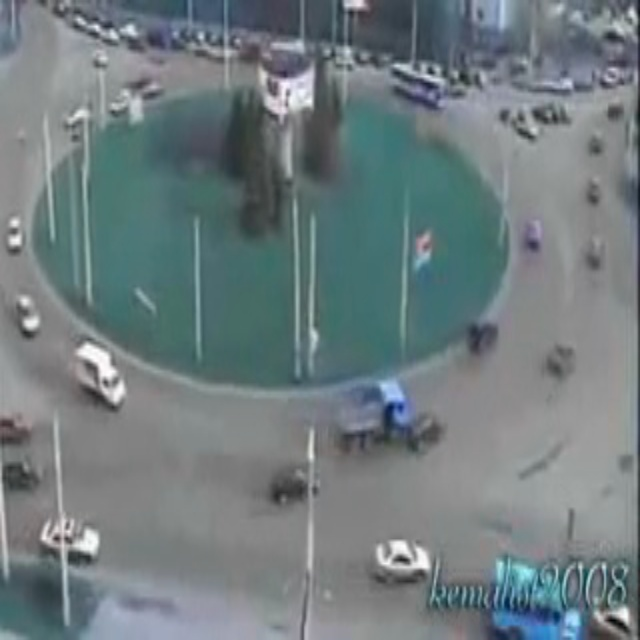acc: (326, 379, 441, 460)
